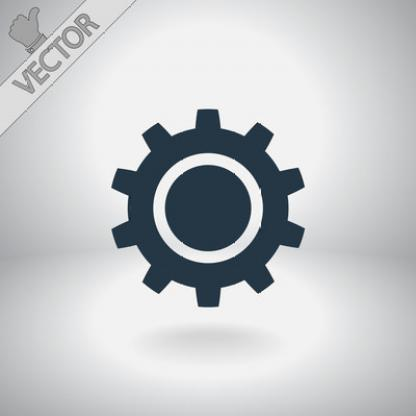FOD: (104, 101, 317, 316)
